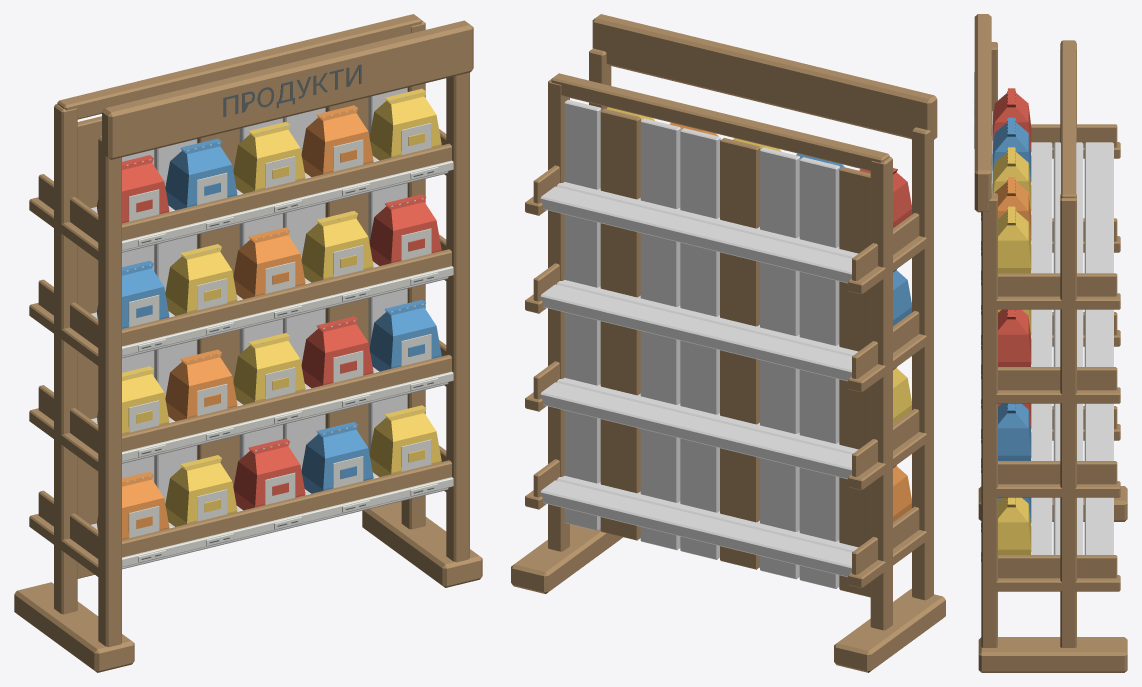
Rendered from Shelf_GroceryPacks.fbx.
3 views of the same model, side by side, from view 1: azimuth 30°, elevation 25°; view 2: azimuth 150°, elevation 25°; view 3: azimuth 270°, elevation 25° (orthographic). The views are drawn at different scales.
Parts seen in each view (by area): view 1: Shelf_GroceryPacks__LPCXFER, Shelf_GroceryPacks__Back_wood__LPCXFER, Shelf_GroceryPacks__Header_wood__LPCXFER, Shelf_GroceryPacks__Shelf_1__LPCXFER, Shelf_GroceryPacks__Shelf_2__LPCXFER, Shelf_GroceryPacks__Shelf_3__LPCXFER, Shelf_GroceryPacks__Shelf_4__LPCXFER, Shelf_GroceryPacks_Item_1_F_2_bag__LPCXFER, Shelf_GroceryPacks_Item_2_F_2_bag__LPCXFER, Shelf_GroceryPacks_Item_2_F_3_bag__LPCXFER, Shelf_GroceryPacks_Item_4_F_3_bag__LPCXFER, Shelf_GroceryPacks_Item_4_F_5_bag__LPCXFER (+16 smaller); view 2: Shelf_GroceryPacks__Back_wood__LPCXFER, Shelf_GroceryPacks__LPCXFER, Shelf_GroceryPacks__Header_wood__LPCXFER, Shelf_GroceryPacks__Shelf_3__LPCXFER, Shelf_GroceryPacks__Shelf_4__LPCXFER, Shelf_GroceryPacks__Shelf_1__LPCXFER, Shelf_GroceryPacks__Shelf_2__LPCXFER, Shelf_GroceryPacks_Item_4_F_1_bag__LPCXFER, Shelf_GroceryPacks_Item_1_F_1_bag__LPCXFER, Shelf_GroceryPacks_Item_2_F_1_bag__LPCXFER, Shelf_GroceryPacks_Item_3_F_1_bag__LPCXFER; view 3: Shelf_GroceryPacks__LPCXFER, Shelf_GroceryPacks__Shelf_4__LPCXFER, Shelf_GroceryPacks__Shelf_2__LPCXFER, Shelf_GroceryPacks__Shelf_3__LPCXFER, Shelf_GroceryPacks__Shelf_1__LPCXFER, Shelf_GroceryPacks__Header_wood__LPCXFER, Shelf_GroceryPacks_Item_4_F_5_bag__LPCXFER, Shelf_GroceryPacks_Item_1_F_5_bag__LPCXFER, Shelf_GroceryPacks_Item_2_F_5_bag__LPCXFER, Shelf_GroceryPacks_Item_3_F_5_bag__LPCXFER, Shelf_GroceryPacks_Item_4_F_2_bag__LPCXFER, Shelf_GroceryPacks_Item_4_F_1_bag__LPCXFER (+2 smaller).
Part boxes in pixels (x1,y1,x2,y2): Shelf_GroceryPacks__LPCXFER: [14, 14, 482, 672]; Shelf_GroceryPacks__Back_wood__LPCXFER: [77, 87, 407, 578]; Shelf_GroceryPacks__Header_wood__LPCXFER: [102, 20, 473, 159]; Shelf_GroceryPacks__Shelf_1__LPCXFER: [38, 445, 453, 569]; Shelf_GroceryPacks__Shelf_2__LPCXFER: [38, 340, 453, 463]; Shelf_GroceryPacks__Shelf_3__LPCXFER: [38, 234, 453, 358]; Shelf_GroceryPacks__Shelf_4__LPCXFER: [38, 129, 453, 252]; Shelf_GroceryPacks_Item_1_F_2_bag__LPCXFER: [165, 455, 237, 526]; Shelf_GroceryPacks_Item_2_F_2_bag__LPCXFER: [165, 349, 237, 421]; Shelf_GroceryPacks_Item_2_F_3_bag__LPCXFER: [233, 333, 305, 404]; Shelf_GroceryPacks_Item_4_F_3_bag__LPCXFER: [233, 122, 305, 193]; Shelf_GroceryPacks_Item_4_F_5_bag__LPCXFER: [369, 88, 441, 160]; Shelf_GroceryPacks__Back_wood__LPCXFER: [564, 99, 870, 597]; Shelf_GroceryPacks__LPCXFER: [511, 48, 945, 672]; Shelf_GroceryPacks__Header_wood__LPCXFER: [592, 14, 937, 141]; Shelf_GroceryPacks__Shelf_3__LPCXFER: [533, 263, 919, 381]; Shelf_GroceryPacks__Shelf_4__LPCXFER: [533, 165, 919, 283]; Shelf_GroceryPacks__Shelf_1__LPCXFER: [533, 459, 919, 577]; Shelf_GroceryPacks__Shelf_2__LPCXFER: [533, 361, 919, 479]; Shelf_GroceryPacks_Item_4_F_1_bag__LPCXFER: [859, 168, 911, 228]; Shelf_GroceryPacks_Item_1_F_1_bag__LPCXFER: [893, 465, 911, 521]; Shelf_GroceryPacks_Item_2_F_1_bag__LPCXFER: [893, 367, 911, 423]; Shelf_GroceryPacks_Item_3_F_1_bag__LPCXFER: [893, 269, 911, 325]; Shelf_GroceryPacks__LPCXFER: [978, 40, 1127, 672]; Shelf_GroceryPacks__Shelf_4__LPCXFER: [981, 124, 1117, 296]; Shelf_GroceryPacks__Shelf_2__LPCXFER: [981, 312, 1117, 484]; Shelf_GroceryPacks__Shelf_3__LPCXFER: [981, 218, 1117, 390]; Shelf_GroceryPacks__Shelf_1__LPCXFER: [981, 406, 1117, 578]; Shelf_GroceryPacks__Header_wood__LPCXFER: [974, 14, 991, 212]; Shelf_GroceryPacks_Item_4_F_5_bag__LPCXFER: [998, 206, 1031, 273]; Shelf_GroceryPacks_Item_1_F_5_bag__LPCXFER: [998, 497, 1031, 554]; Shelf_GroceryPacks_Item_2_F_5_bag__LPCXFER: [998, 403, 1031, 460]; Shelf_GroceryPacks_Item_3_F_5_bag__LPCXFER: [998, 309, 1031, 366]; Shelf_GroceryPacks_Item_4_F_2_bag__LPCXFER: [991, 117, 1031, 181]; Shelf_GroceryPacks_Item_4_F_1_bag__LPCXFER: [991, 88, 1031, 152].
Bounding box in the file's own units: 154 × 212 × 59.15.
